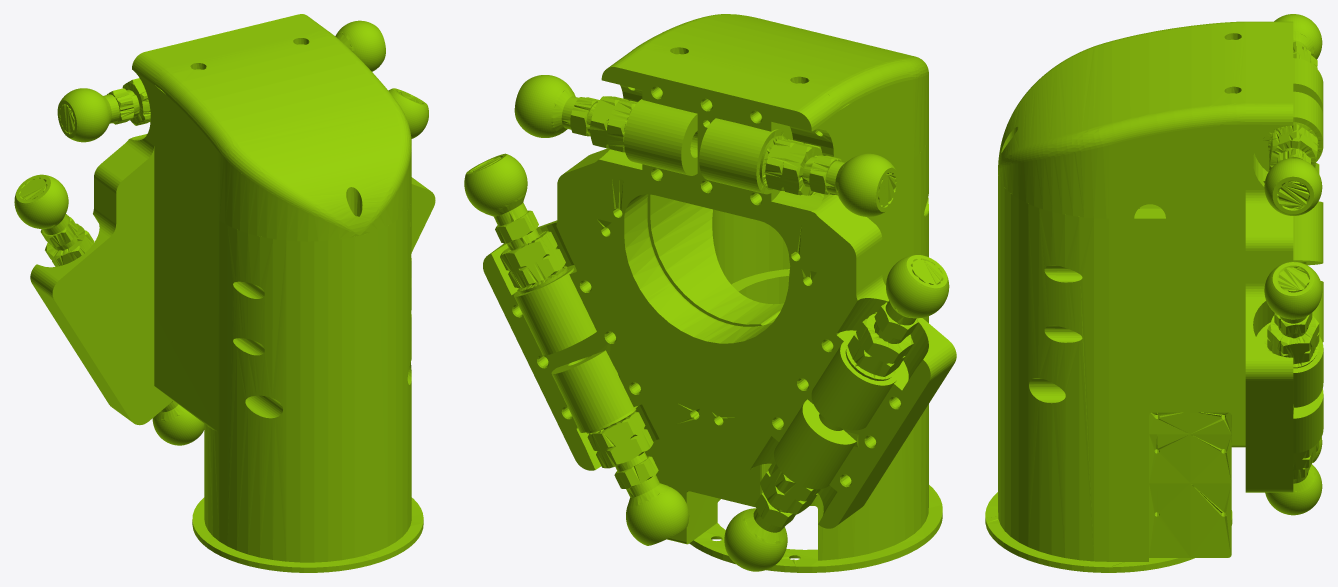
File: Mobile Platform.OBJ
The picture shows the model from 3 angles, left to right: view 1: azimuth 30°, elevation 25°; view 2: azimuth 150°, elevation 25°; view 3: azimuth 270°, elevation 25°; orthographic projection. The views are drawn at different scales.
Parts seen in each view (by area): view 1: /ambf/env/Mobile_Platform_Mobile_Platform; view 2: /ambf/env/Mobile_Platform_Mobile_Platform; view 3: /ambf/env/Mobile_Platform_Mobile_Platform.
Part boxes in pixels (x1,y1,x2,y2): /ambf/env/Mobile_Platform_Mobile_Platform: [14, 14, 435, 572]; /ambf/env/Mobile_Platform_Mobile_Platform: [464, 14, 956, 572]; /ambf/env/Mobile_Platform_Mobile_Platform: [985, 14, 1323, 572].
Bounding box in the file's own units: 0.1587 × 0.1592 × 0.1067.
